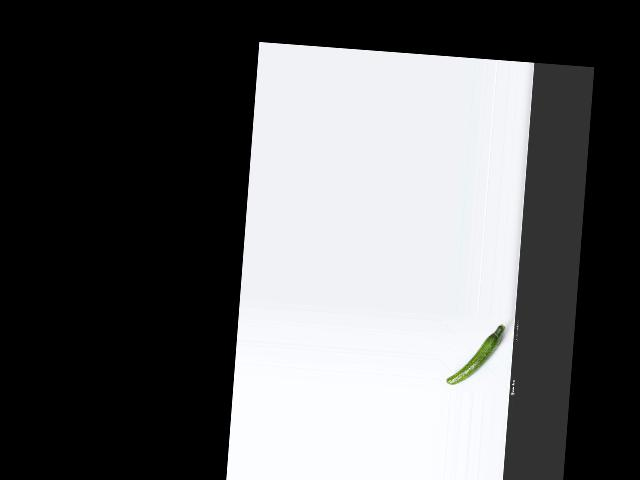cucumber: (446, 319, 505, 387)
